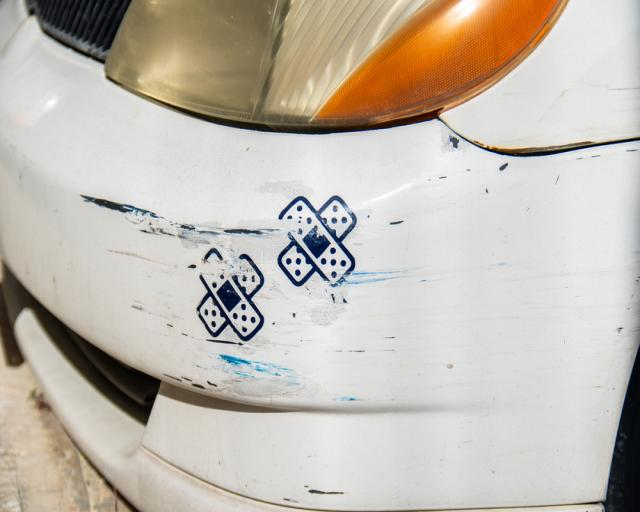scratch: (72, 127, 506, 402)
